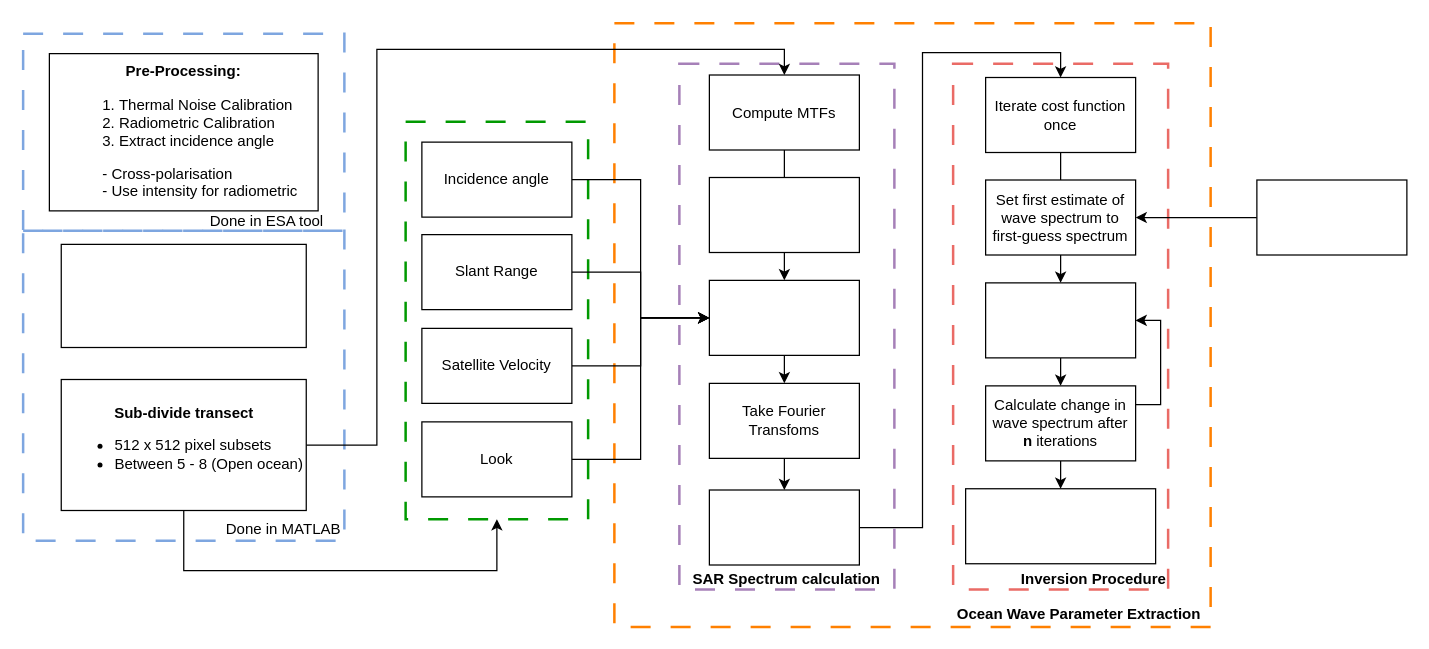
Image size: 1429x649. Some labels were removed from this diagram. The shapes that lost their labels are listed below. From the top down, each one's box as (x1, y1, x2, y2) in pixels, then its label:
(708, 176, 859, 252): Compute co/autocovariance functions
(1256, 179, 1407, 255): Wave Model Sourced from NOAA NCEP
(60, 243, 306, 348): Take transects of image Open ocean
(404, 120, 589, 520): SAR Metadata
(708, 279, 859, 355): Calculate covariance expressions in spectral expansions
(984, 282, 1136, 358): Iterate minimisation of cost function, J
(708, 489, 859, 565): Combine contributions to extract full wave spectrum
(964, 488, 1156, 564): Output Wave Spectrum
